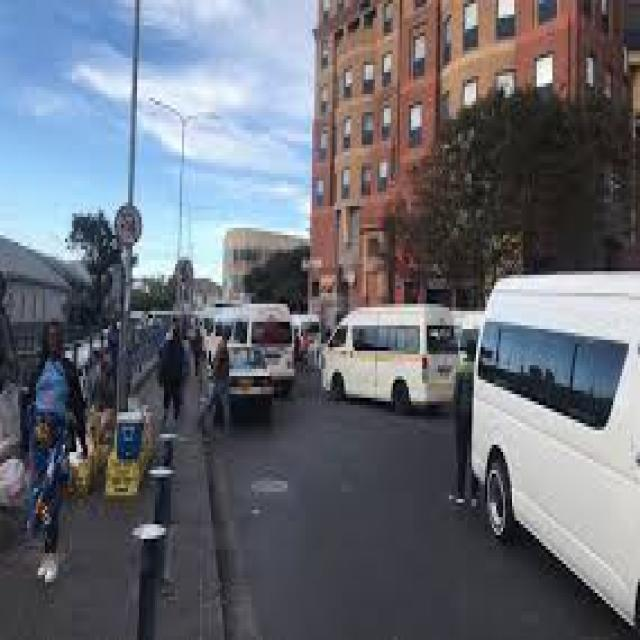MiniBus taxi: (471, 267, 640, 625), (319, 296, 456, 408), (242, 300, 296, 401)
Passenger Car: (222, 336, 276, 427)
Pedestrians: (25, 318, 81, 586), (447, 336, 485, 510), (204, 322, 233, 445)
